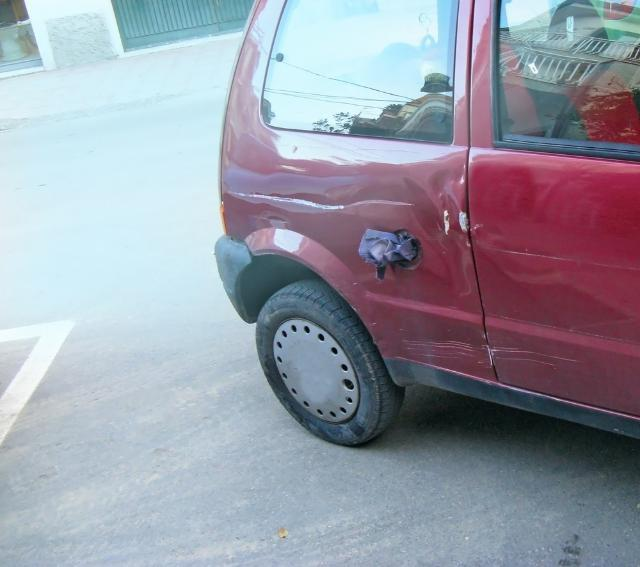dent: (405, 166, 472, 293)
scratch: (480, 241, 640, 272), (228, 189, 409, 212), (402, 336, 493, 366), (487, 343, 578, 370)
